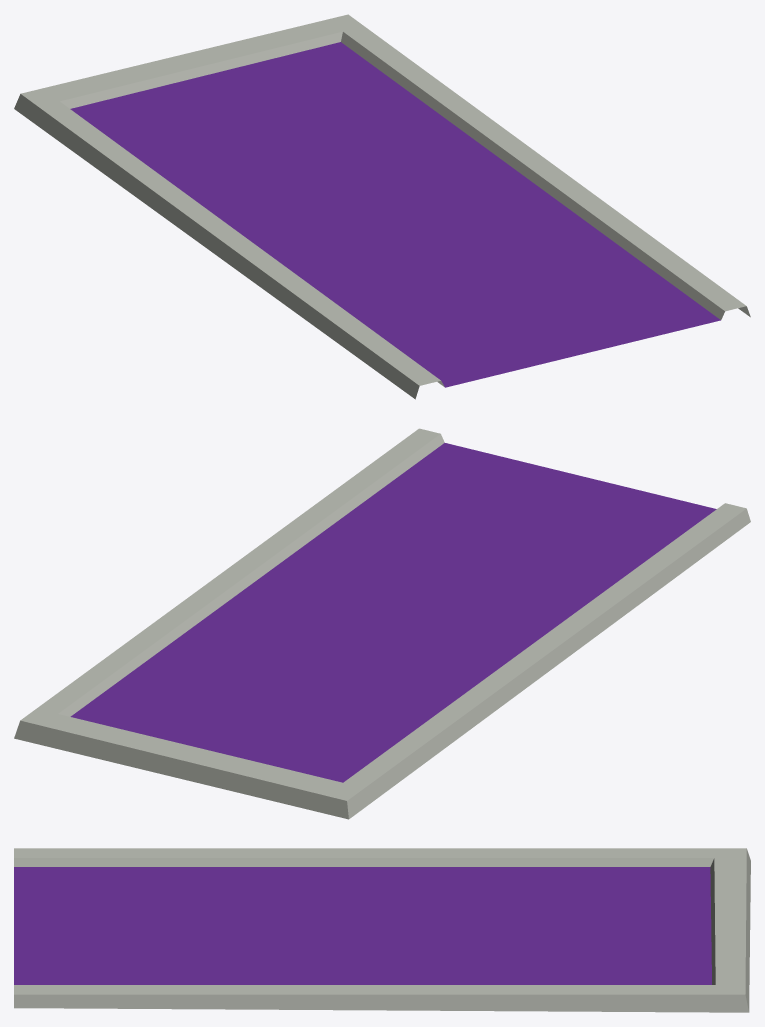
File: ParkRoad_5_A.glb
The picture shows the model from 3 angles, top to bottom: view 1: azimuth 30°, elevation 25°; view 2: azimuth 150°, elevation 25°; view 3: azimuth 270°, elevation 25°; orthographic projection. The views are drawn at different scales.
Parts seen in each view (by area): view 1: ParkRoad_5_A; view 2: ParkRoad_5_A; view 3: ParkRoad_5_A.
Part boxes in pixels (x1,y1,x2,y2): ParkRoad_5_A: (14,14,750,399); ParkRoad_5_A: (14,428,750,819); ParkRoad_5_A: (14,848,750,1012).
Bounding box in the file's own units: 2 × 0.0999 × 4.15.
Materials: 1 (1 with a texture image).
